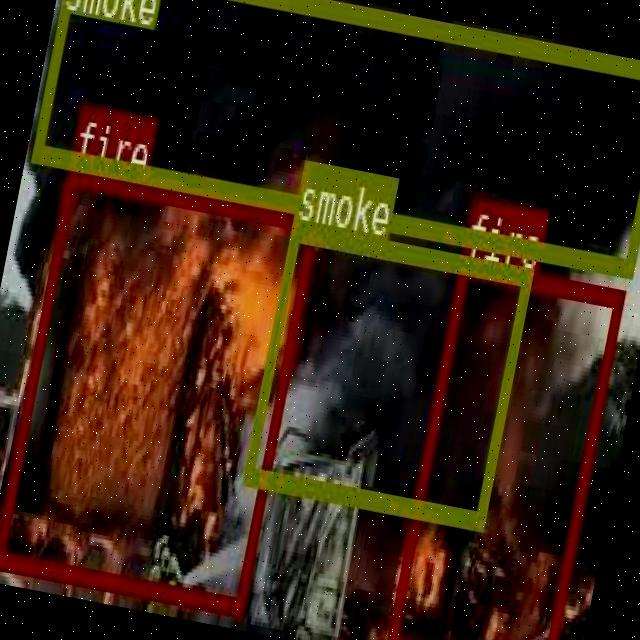fire: (0, 162, 319, 613), (385, 258, 623, 640)
smoke: (30, 0, 640, 273), (242, 221, 533, 527)
